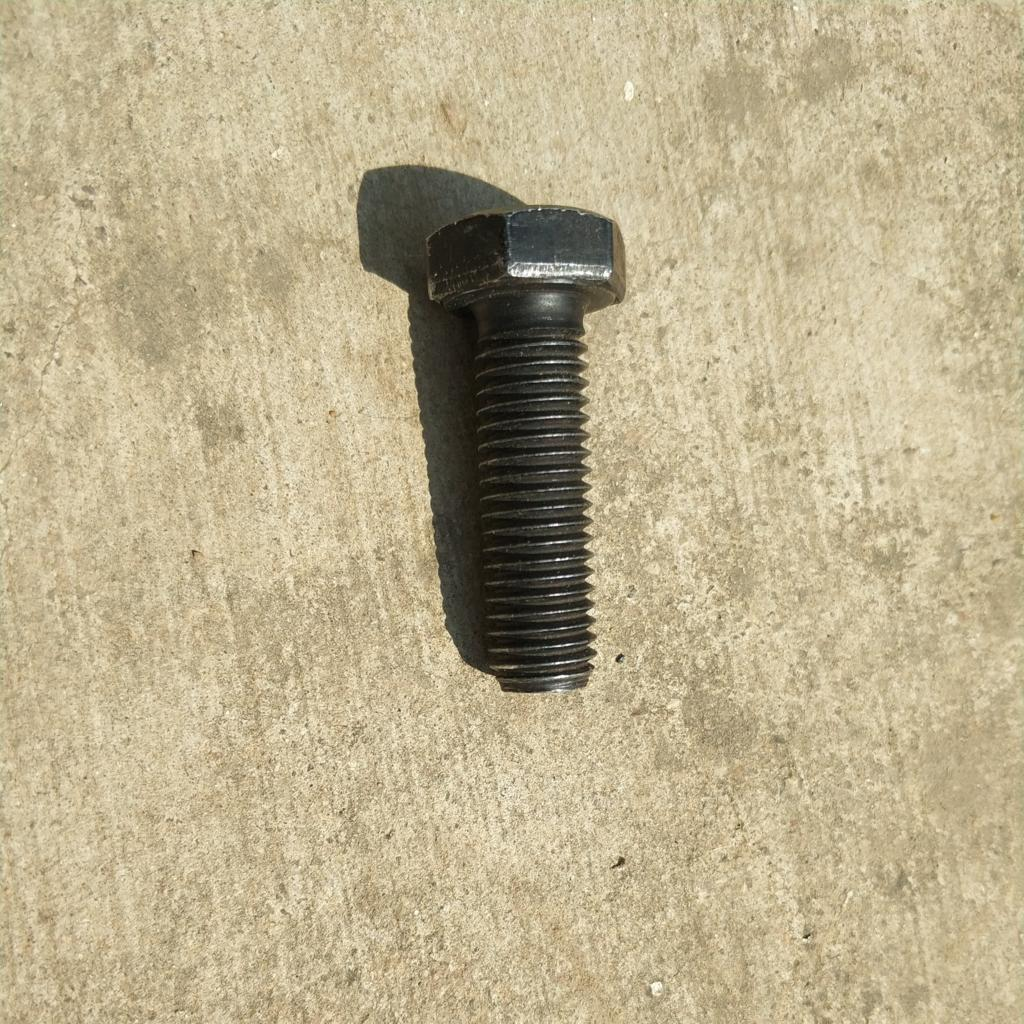screwtype2black: (413, 200, 639, 701)
